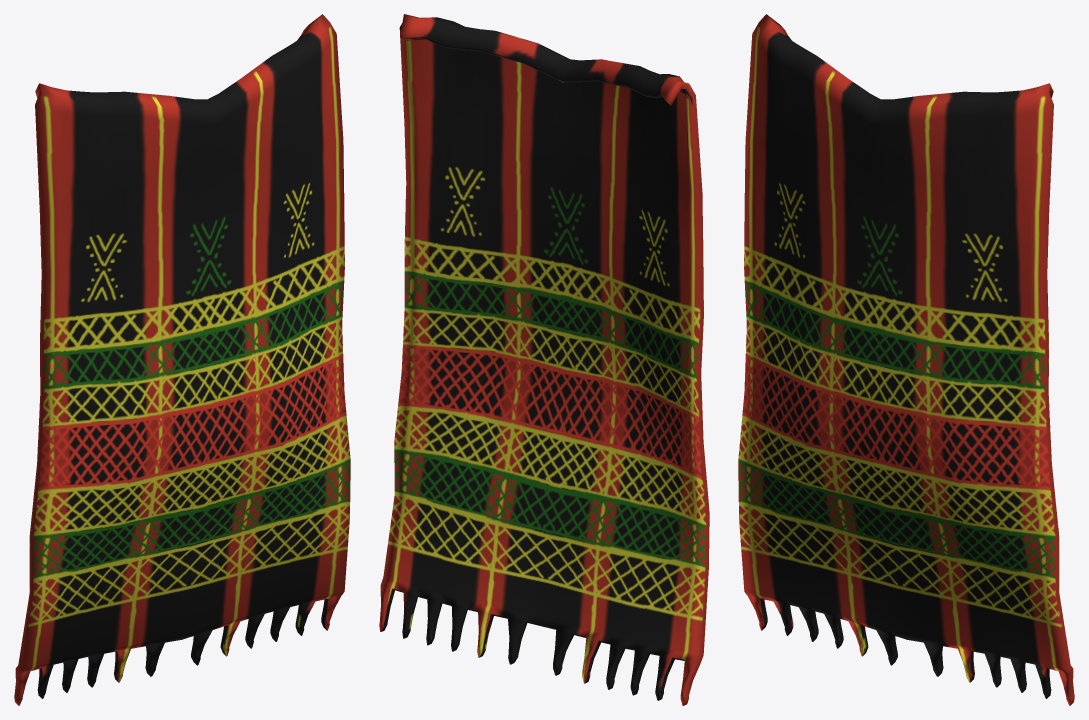
The model's file is MAGITING KID BAHAG.fbx.
3 views of the same model, side by side, from view 1: azimuth 30°, elevation 25°; view 2: azimuth 150°, elevation 25°; view 3: azimuth 330°, elevation 25° (orthographic).
Visible parts, largest first — view 1: Plane.014; view 2: Plane.014; view 3: Plane.014.
Boxes of the visible parts, box(x1,y1,x2,y2) form: Plane.014: box(14, 14, 350, 705); Plane.014: box(379, 14, 709, 705); Plane.014: box(738, 14, 1074, 705).
Bounding box in the file's own units: 38.02 × 70.53 × 9.78.
Materials: 1 (1 with a texture image).
